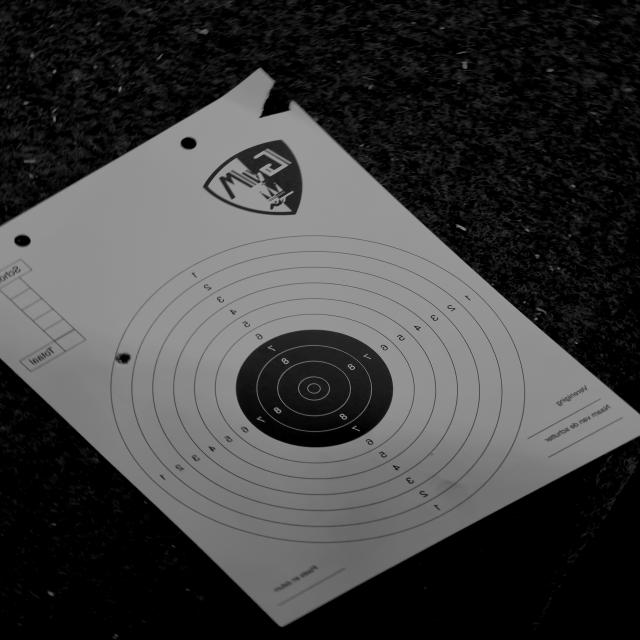1: (115, 352, 131, 365)
Target: (109, 234, 526, 544)
black_contour: (236, 329, 393, 447)
